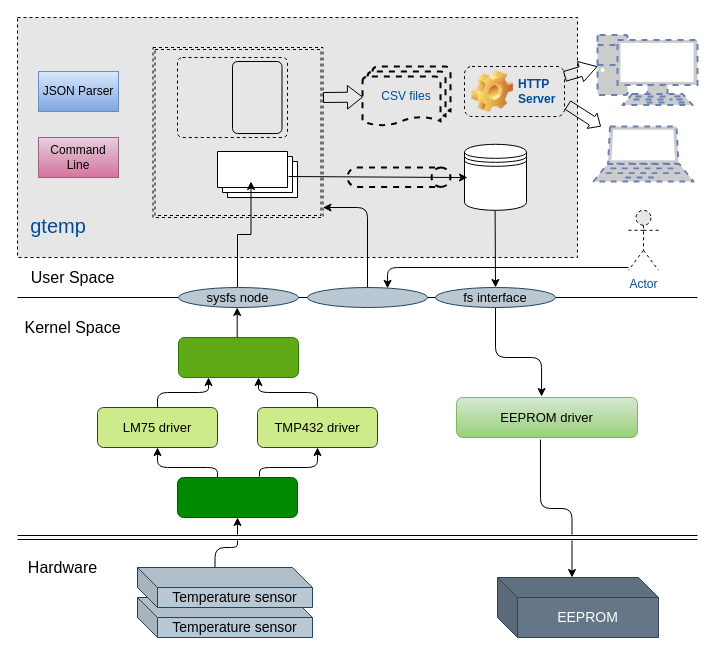
This 716x655 diagram has some shape labels left out. Each missing label, with the centre of its shape:
"Data Cache" belongs at point 495,176.
"go routines" belongs at point 257,174.
"hwmon" belongs at point 238,357.
"i2c client" belongs at point 237,497.
"main" belongs at point 204,97.
"output" belongs at point 257,97.
"signal / watch" belongs at point 367,297.
